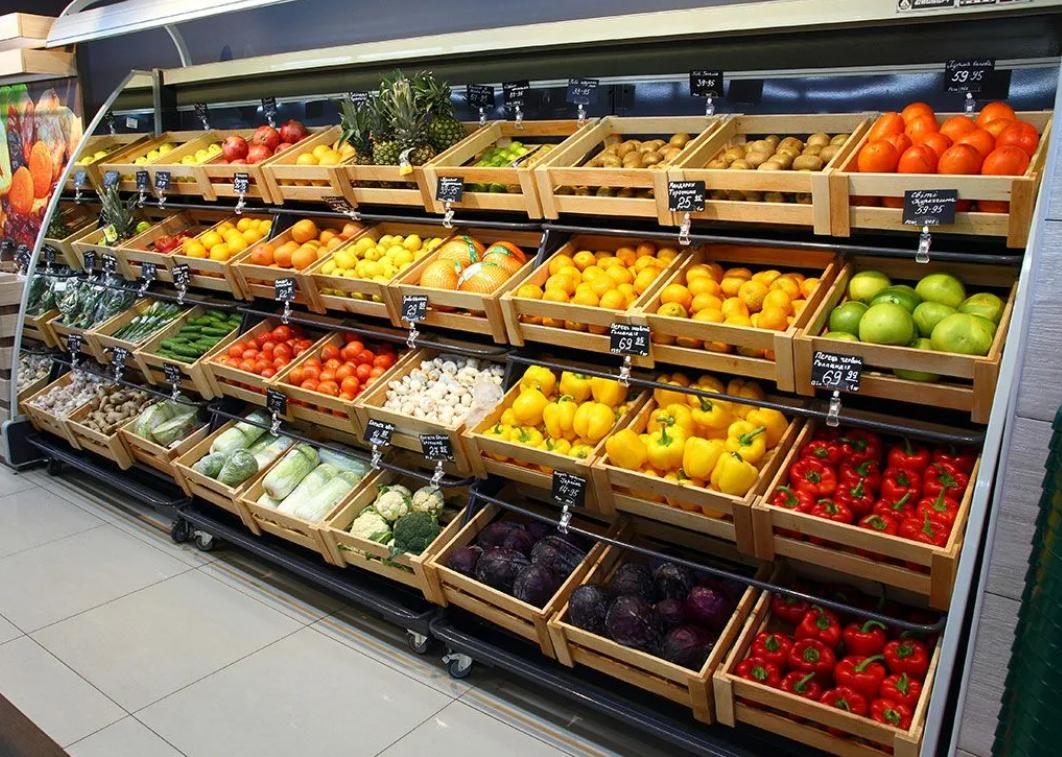cucumber: (151, 308, 244, 379)
garlic: (27, 369, 101, 416)
ginger: (76, 387, 162, 432)
lemon: (320, 228, 440, 300)
mandarin: (514, 234, 682, 344), (653, 258, 821, 368)
orange: (252, 218, 358, 276), (180, 215, 272, 263)
pineapple: (345, 88, 464, 192)
pomegranate: (210, 118, 304, 190)
sweet pepper: (722, 597, 937, 734), (774, 405, 972, 552), (604, 378, 787, 505), (474, 365, 632, 482)
tomato: (278, 338, 397, 413), (211, 324, 313, 392)
